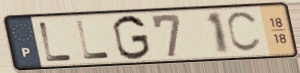1: (205, 9, 231, 57)
7: (148, 13, 183, 58)
C: (224, 9, 263, 55)
G: (111, 13, 153, 62)
L: (37, 20, 75, 64), (74, 19, 113, 61)
